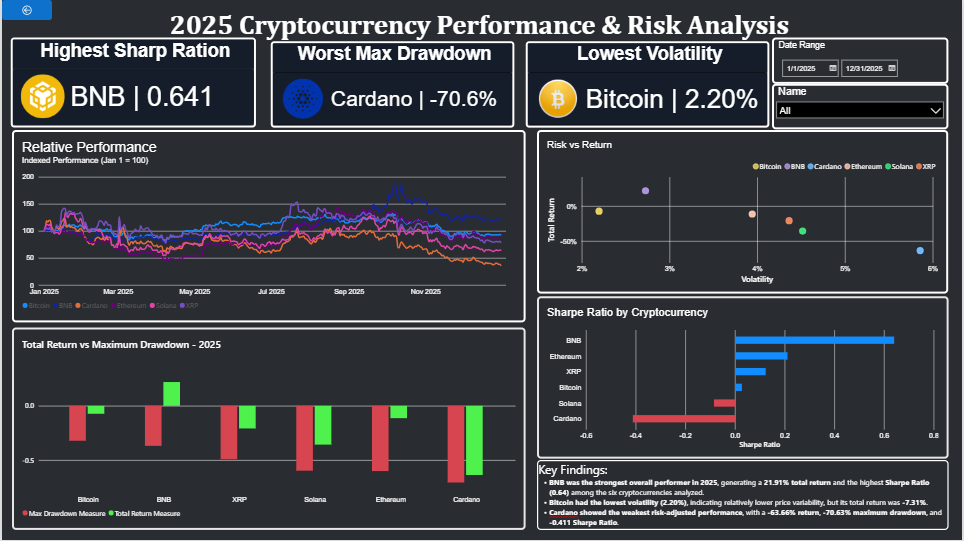

Layout of this report page (visuals, bound fields, positions):
{"tool":"powerbi","page":{"name":"Page 1","canvas":[1920,1080],"ordinal":0},"visuals":[{"type":"cardVisual","title":"Highest Sharp Ration","fields":{"Data":["Crypto.Highest Sharpe"]},"box":[17.5,75,490,180],"z":0},{"type":"textbox","box":[18.7,18.7,1874.1,80.1],"z":1000},{"type":"cardVisual","title":"Worst Max Drawdown","fields":{"Data":["Crypto.Low Drawdown"]},"box":[537.5,82.5,487.5,172.5],"z":2000},{"type":"cardVisual","title":"Lowest Volatility","fields":{"Data":["Crypto.Lowest Volatility"]},"box":[1047.5,82.5,487.5,172.5],"z":3000},{"type":"lineChart","title":"Relative Performance ","fields":{"Category":["Crypto.Date"],"Series":["Crypto.Name"],"Y":["Crypto.Relative Performance"]},"box":[20,261.1,1027.5,385],"z":4000},{"type":"scatterChart","title":"Risk vs Return","fields":{"Series":["Summary_Table.Name"],"X":["Summary_Table.Volatility"],"Y":["Summary_Table.Total Return"]},"box":[1070,261.1,822.5,327.5],"z":5000},{"type":"clusteredColumnChart","title":"Total Return vs Maximum Drawdown - 2025","fields":{"Category":["Summary_Table.Name"],"Y":["Summary_Table.Max Drawdown Measure","Summary_Table.Total Return Measure"]},"box":[20,655,1027.5,405],"z":6000},{"type":"actionButton","box":[0,0,100,40],"z":7000},{"type":"slicer","title":"Date Range","fields":{"Values":["Crypto.Date"]},"box":[1540,73.8,352.5,92.5],"z":8000},{"type":"slicer","fields":{"Values":["CryptoList.Name"]},"box":[1540,166.2,352.5,91.2],"z":9000},{"type":"barChart","title":"Sharpe Ratio by Cryptocurrency","fields":{"Category":["Summary_Table.Name"],"Y":["Avg(Summary_Table.Sharpe Ratio)"]},"box":[1070,591.7,823.3,325],"z":10000},{"type":"textbox","box":[1070,920,823.3,140],"z":10001}]}

Visuals, with their boxes in screenshot pixels (x1, y1, x2, y2), scaled from the page's 1920x1080 canvas onto the 964x541 screenshot:
"Highest Sharp Ration" cardVisual: Rect(9, 38, 255, 128)
textbox: Rect(9, 9, 950, 49)
"Worst Max Drawdown" cardVisual: Rect(270, 41, 515, 128)
"Lowest Volatility" cardVisual: Rect(526, 41, 771, 128)
"Relative Performance " lineChart: Rect(10, 131, 526, 324)
"Risk vs Return" scatterChart: Rect(537, 131, 950, 295)
"Total Return vs Maximum Drawdown - 2025" clusteredColumnChart: Rect(10, 328, 526, 531)
actionButton: Rect(0, 0, 50, 20)
"Date Range" slicer: Rect(773, 37, 950, 83)
slicer - CryptoList.Name: Rect(773, 83, 950, 129)
"Sharpe Ratio by Cryptocurrency" barChart: Rect(537, 296, 951, 459)
textbox: Rect(537, 461, 951, 531)
